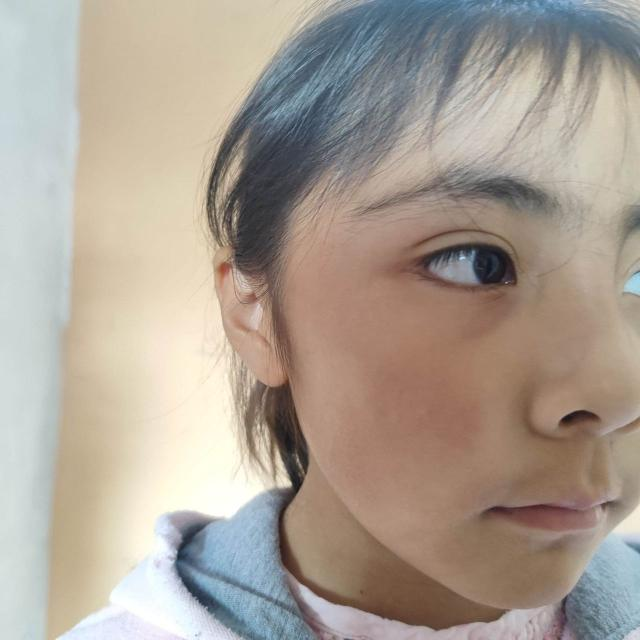ear: (215, 247, 285, 386)
